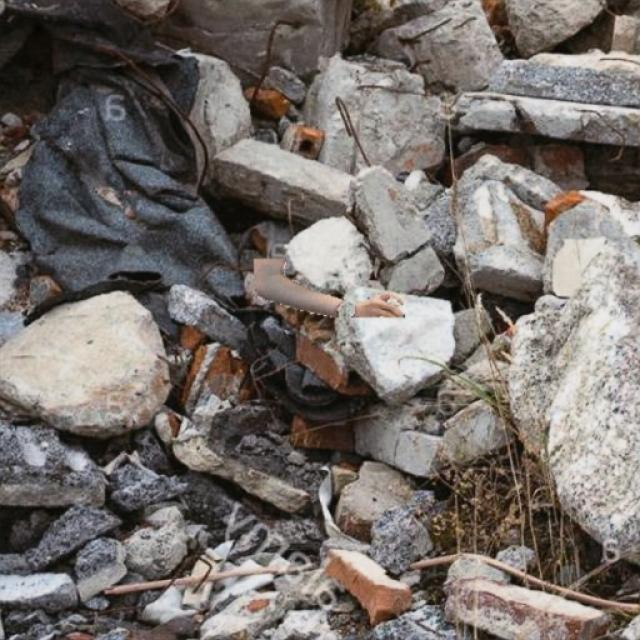Person in Rubble: (254, 258, 404, 316)
